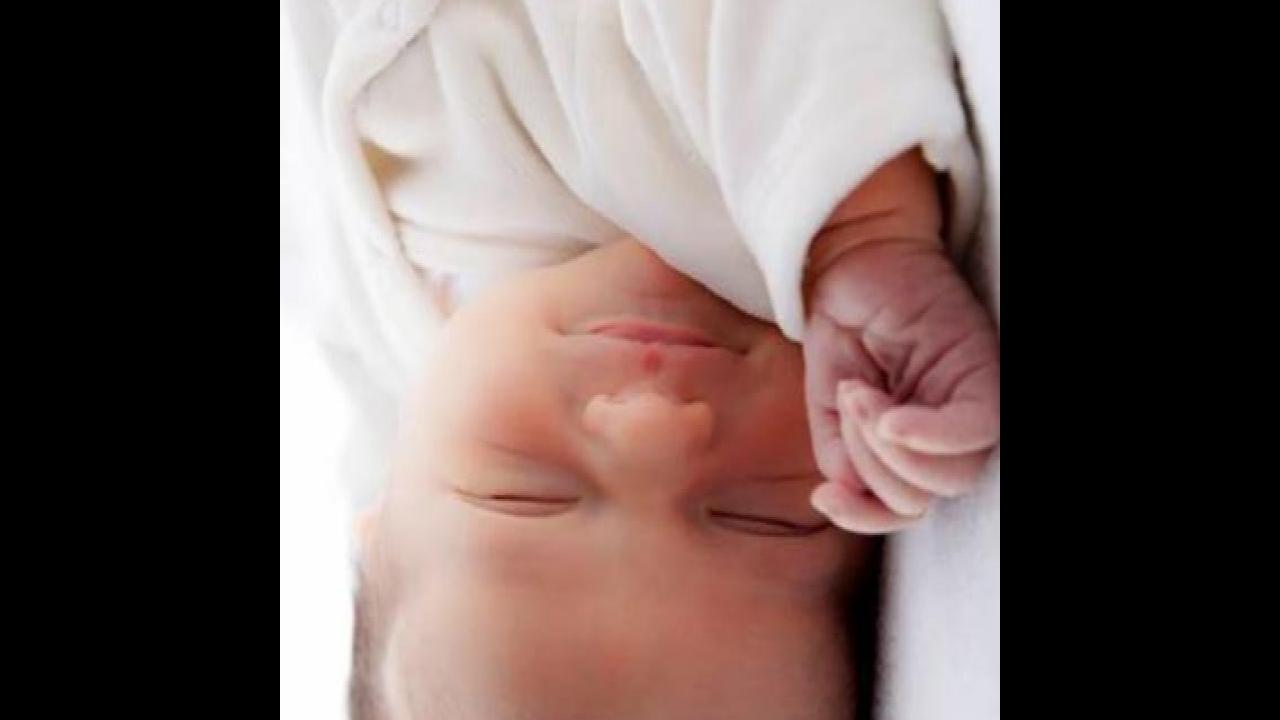hand: (803, 236, 1000, 540)
